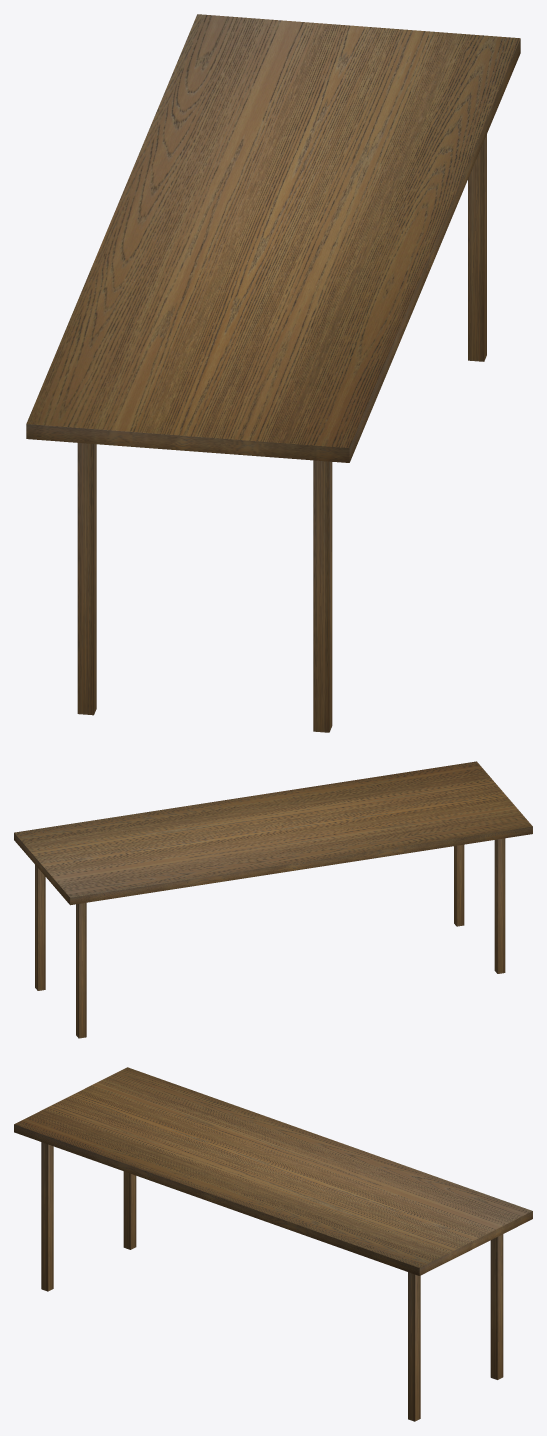
Rendered from Obstacle_018.obj.
3 views of the same model, one above another, from view 1: azimuth 30°, elevation 25°; view 2: azimuth 150°, elevation 25°; view 3: azimuth 270°, elevation 25° (orthographic). The views are drawn at different scales.
Parts seen in each view (by area): view 1: Box114; view 2: Box114; view 3: Box114.
Part boxes in pixels (x1,y1,x2,y2): Box114: [26, 14, 520, 732]; Box114: [14, 761, 532, 1038]; Box114: [14, 1067, 532, 1421].
Size of the model in its own units: 106 by 40.27 by 116.
